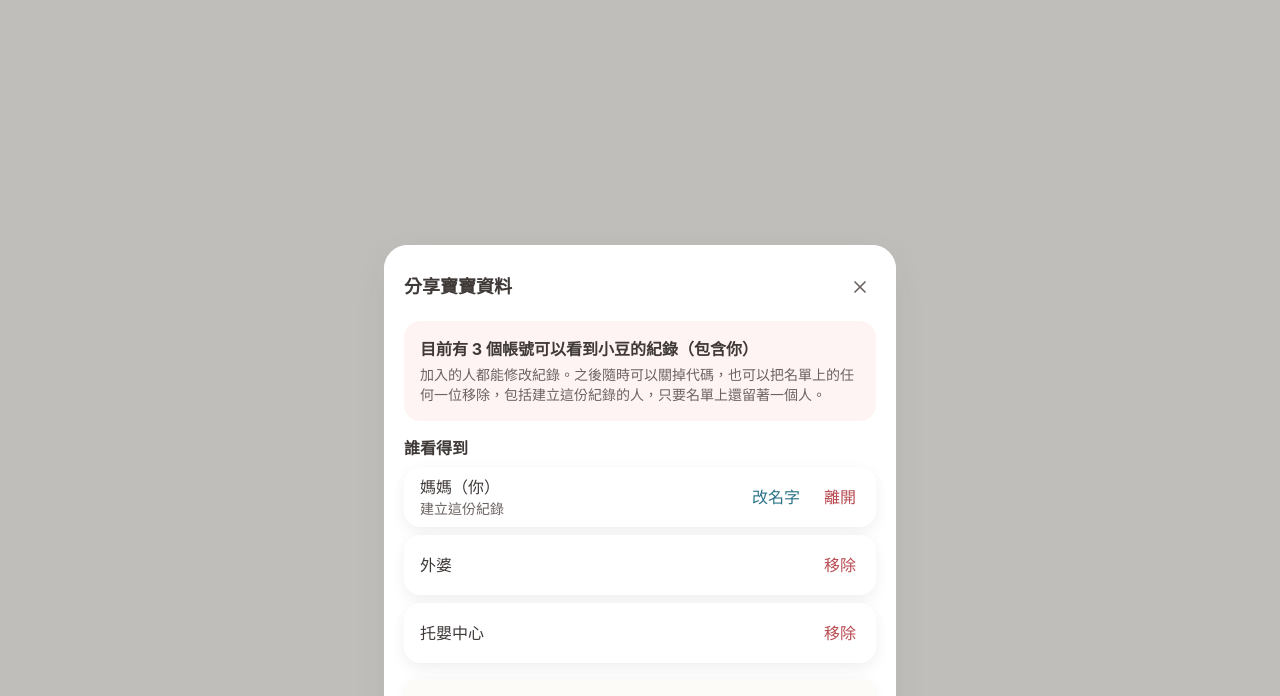
Test: 名單：看得到是誰，一次移除一個 › 改得了自己的名字，存的是輸入的那一個
Click the button "改名字" at {"x": 776, "y": 497}, box [740,475,812,519]
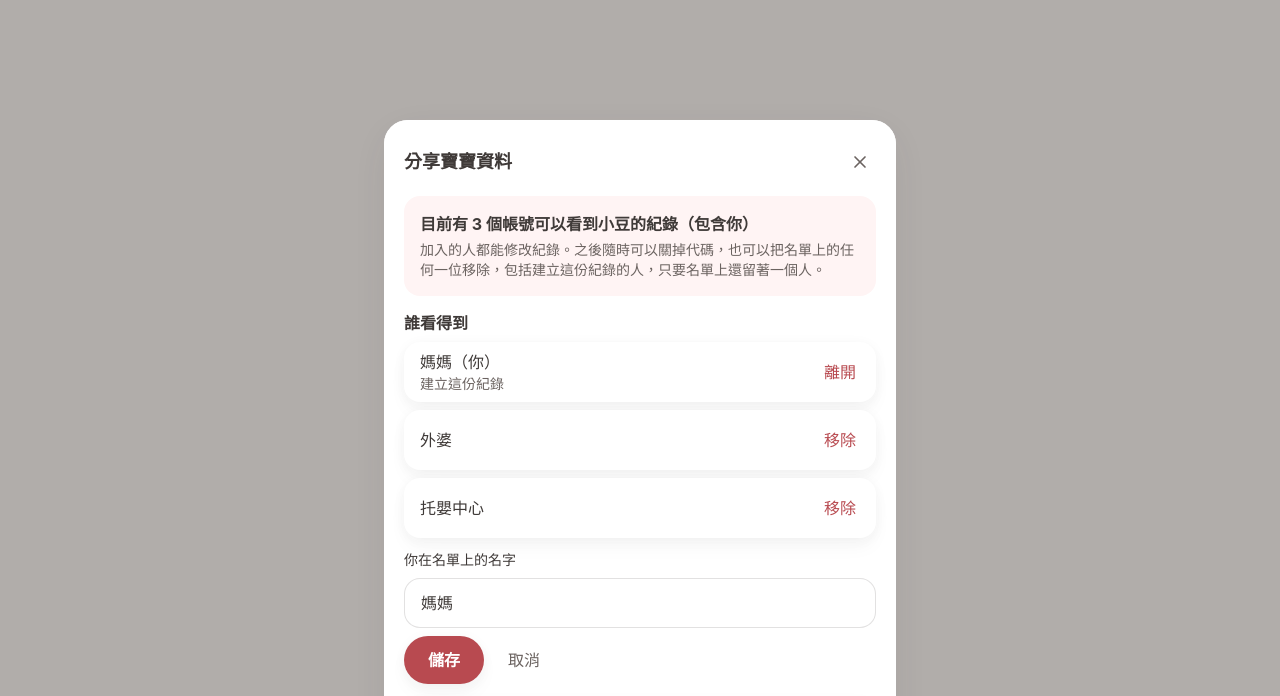
Expected: the field labelled "你在名單上的名字" holds "媽媽"
Replace the text in the field labelled "你在名單上的名字" with "小豆媽" at {"x": 640, "y": 603}, box [404,578,876,628]
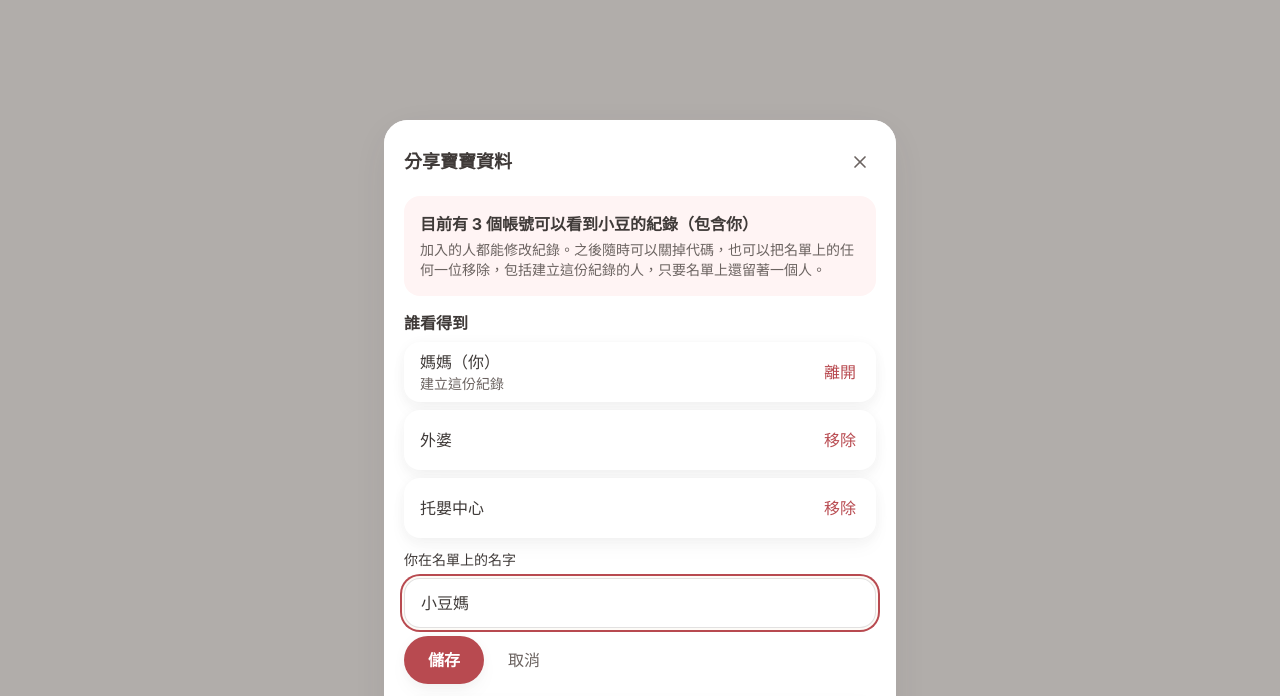
Click the button "儲存" at {"x": 444, "y": 660}, box [404,636,484,684]
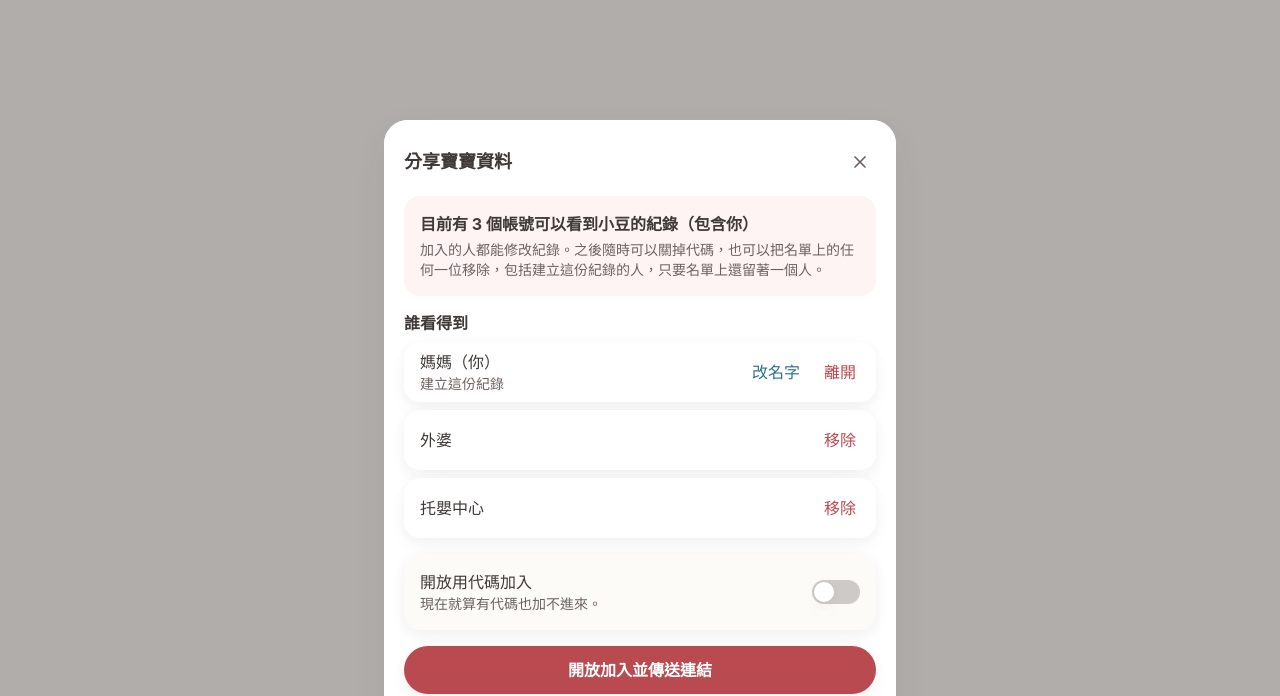
Expected: the label labelled "你在名單上的名字" is gone
